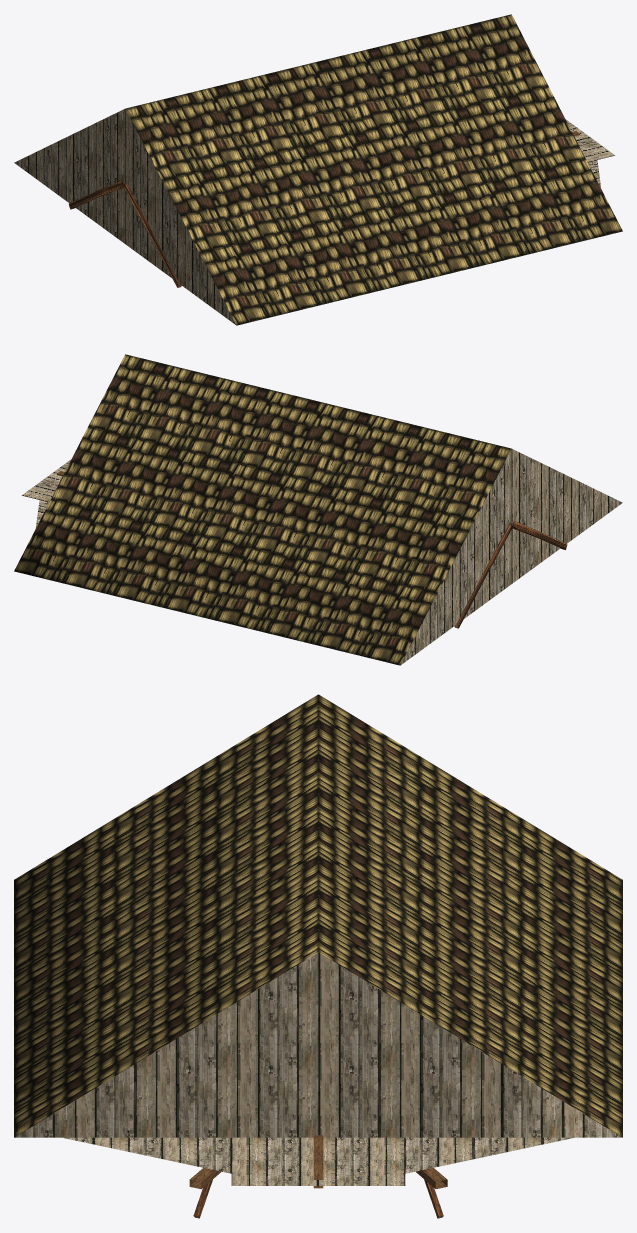
The model's file is LAKETOWN_WAREHOUSE2_PS_WH2_ROOF_PARTS746__GX.fbx.
3 renders of one model, top to bottom at view 1: azimuth 30°, elevation 25°; view 2: azimuth 150°, elevation 25°; view 3: azimuth 270°, elevation 25°, orthographic. The views are drawn at different scales.
Parts seen in each view (by area): view 1: LAKETOWN_WAREHOUSE2_PS_WH2_ROOF_PARTS746__GX; view 2: LAKETOWN_WAREHOUSE2_PS_WH2_ROOF_PARTS746__GX; view 3: LAKETOWN_WAREHOUSE2_PS_WH2_ROOF_PARTS746__GX.
Boxes of the visible parts, x1,y1,x2,y2 form: LAKETOWN_WAREHOUSE2_PS_WH2_ROOF_PARTS746__GX: [14, 14, 622, 325]; LAKETOWN_WAREHOUSE2_PS_WH2_ROOF_PARTS746__GX: [14, 354, 622, 665]; LAKETOWN_WAREHOUSE2_PS_WH2_ROOF_PARTS746__GX: [14, 694, 622, 1218].
Size of the model in its own units: 267737 by 97513 by 224650.
5 materials, 5 textured.
